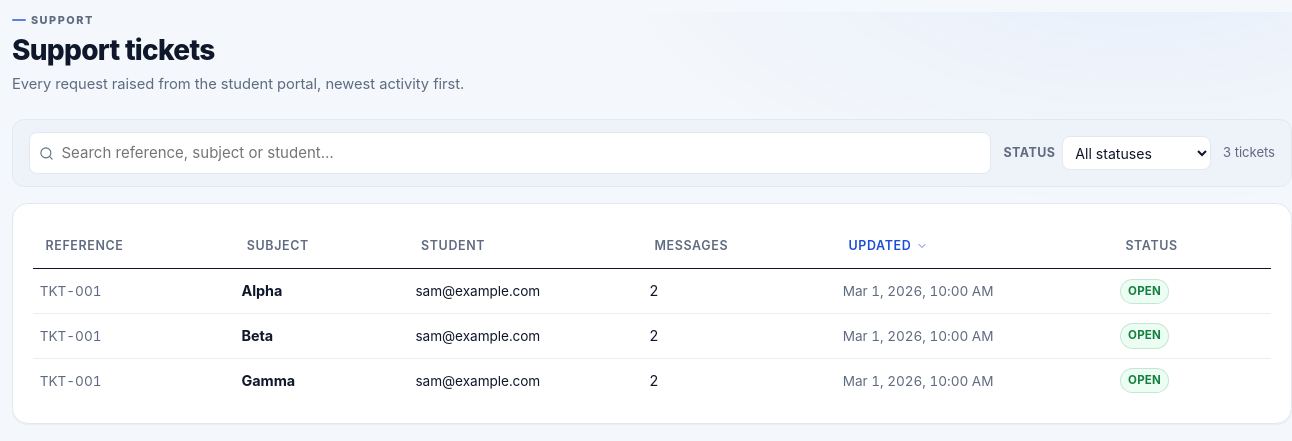
it: Admin support tickets › reports how many tickets the search narrowed to
This screenshot has width=1292, height=441.
Check: the text "3 tickets" is shown, box [1223, 143, 1275, 163]
In the search field labelled "Search": (510, 153) [29, 132, 991, 174], type "alpha"
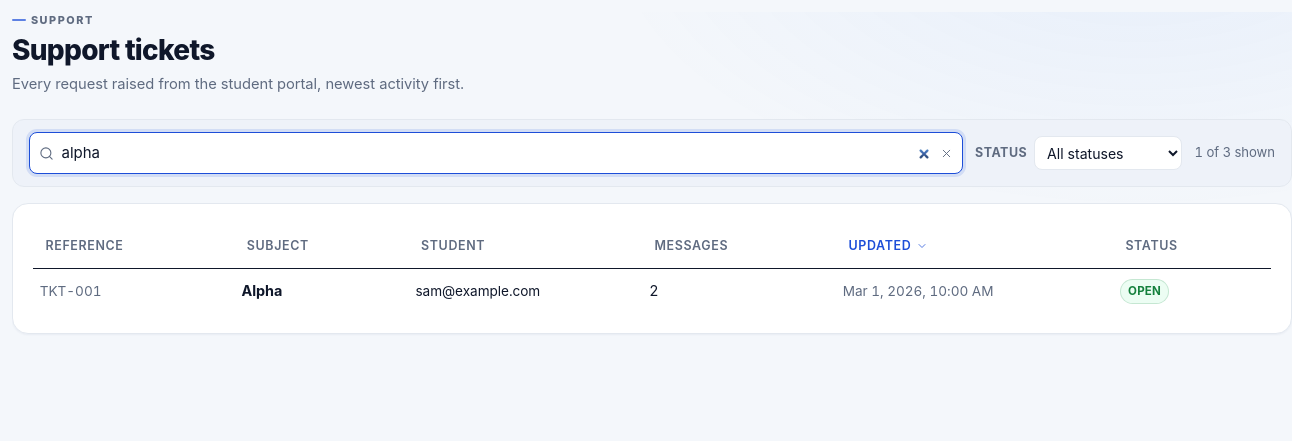
Check: the text "1 of 3 shown" is shown, box [1194, 143, 1275, 163]
